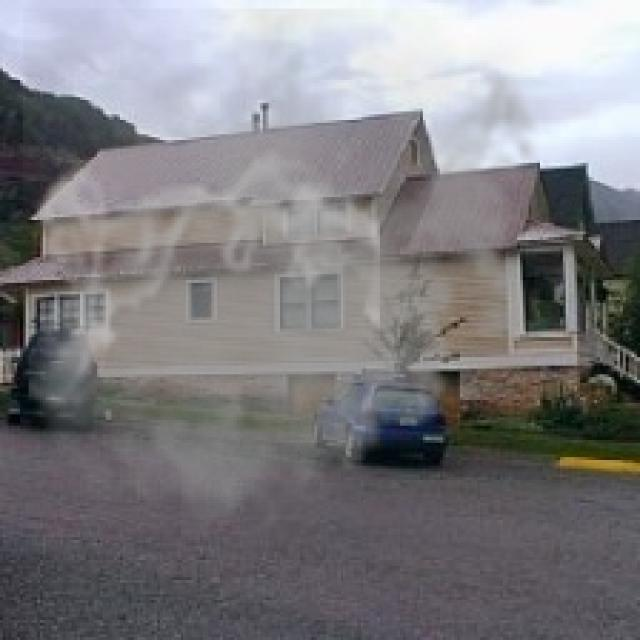Smoke: (22, 8, 554, 546)
